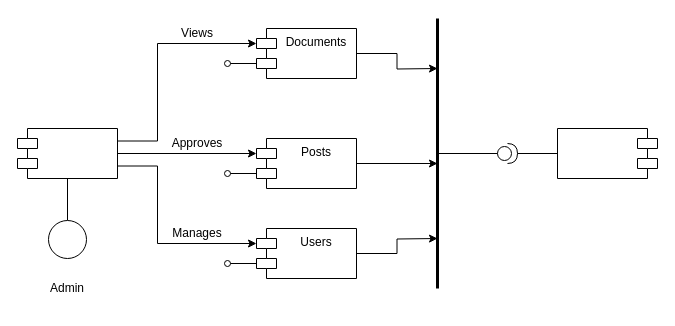
The diagram is 675 pixels wide and 326 high, and some of its shapes have lost their labels. The shapes that lost their labels are listed below. From the top down, each one's box as (x1, y1, x2, y2) in pixels, then its label:
(16, 128, 118, 178): Rapid Reach
(556, 128, 658, 178): Database
